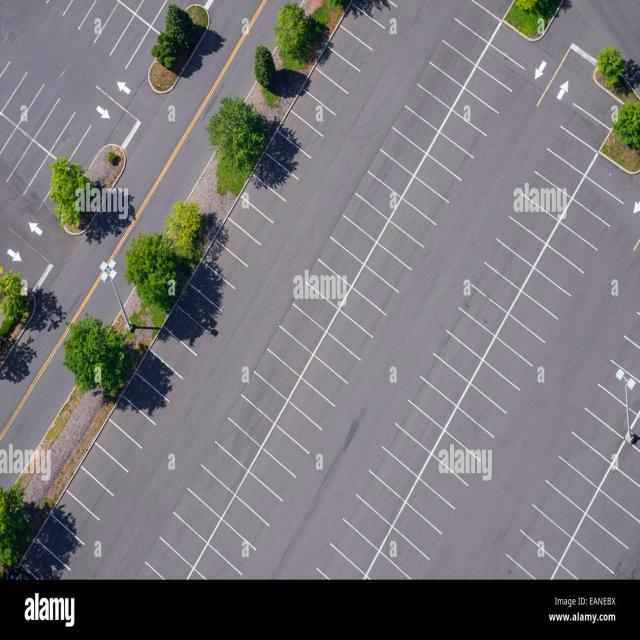free: (331, 518, 380, 575), (357, 470, 404, 527), (436, 329, 484, 383), (397, 400, 444, 454), (460, 285, 506, 339), (315, 236, 363, 287), (237, 472, 282, 526), (162, 515, 207, 569), (228, 395, 274, 446), (255, 348, 300, 400), (282, 305, 325, 354), (269, 327, 312, 374)
